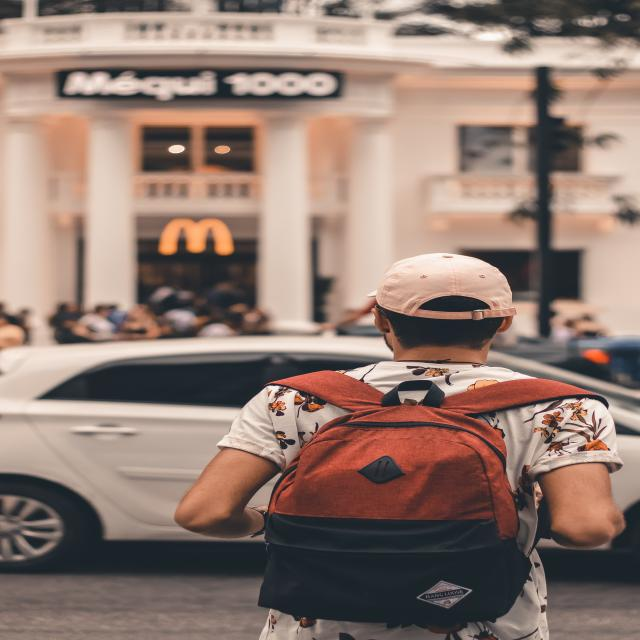backpack: (263, 364, 615, 626)
